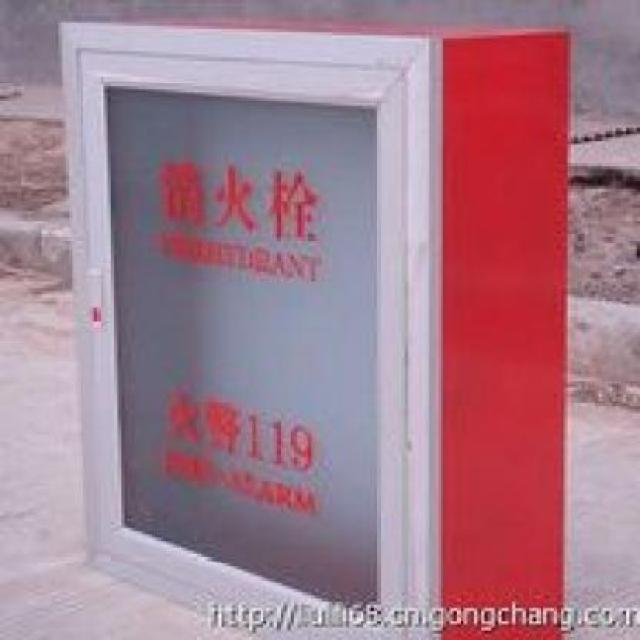firehydrant: (56, 9, 574, 640)
